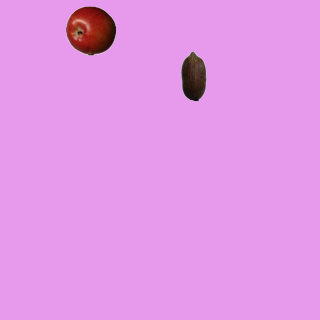Apple Braeburn: (65, 5, 115, 55)
Nut Pecan: (168, 50, 218, 100)
